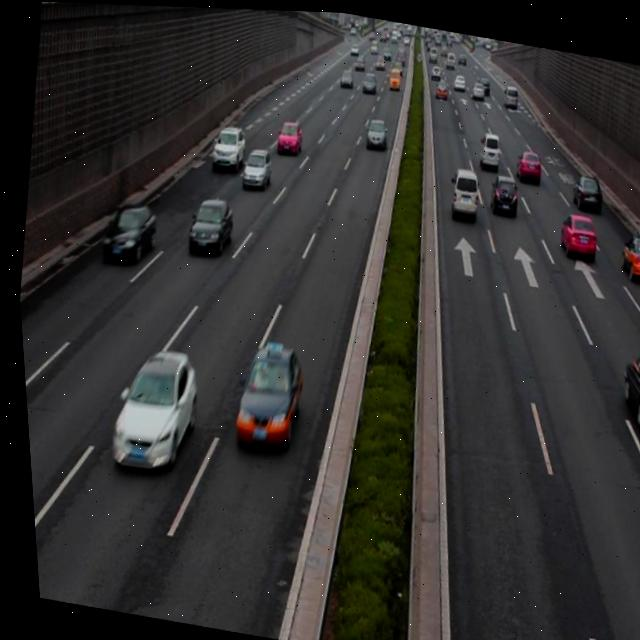car: (97, 338, 201, 480), (221, 336, 305, 452), (94, 194, 159, 269), (181, 192, 235, 256), (609, 343, 640, 430), (551, 205, 597, 258), (207, 120, 247, 171), (237, 142, 273, 191), (612, 223, 640, 281), (566, 166, 602, 211), (484, 167, 518, 214), (272, 115, 304, 157), (512, 143, 542, 182)
truck: (443, 161, 480, 220), (476, 128, 502, 168)
